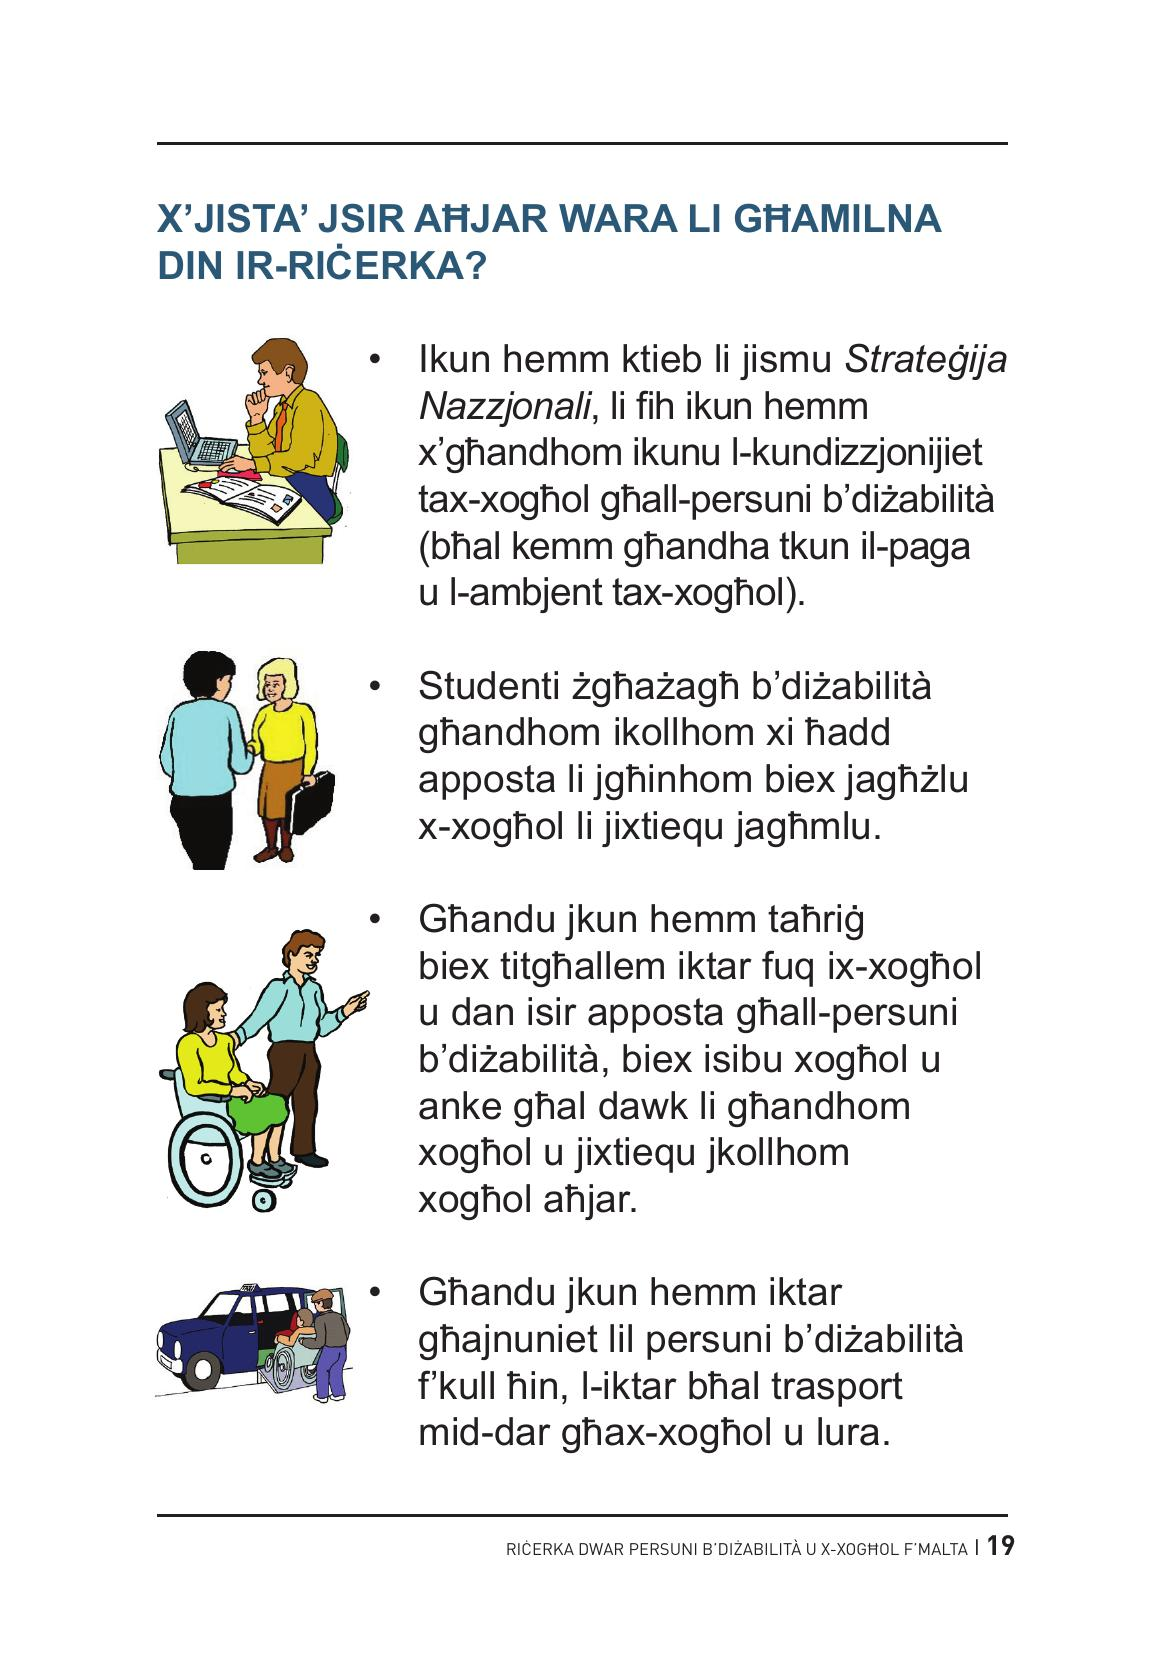text: (357, 320, 1028, 1491), (119, 177, 962, 296)
whiteout: (116, 926, 375, 1234)
